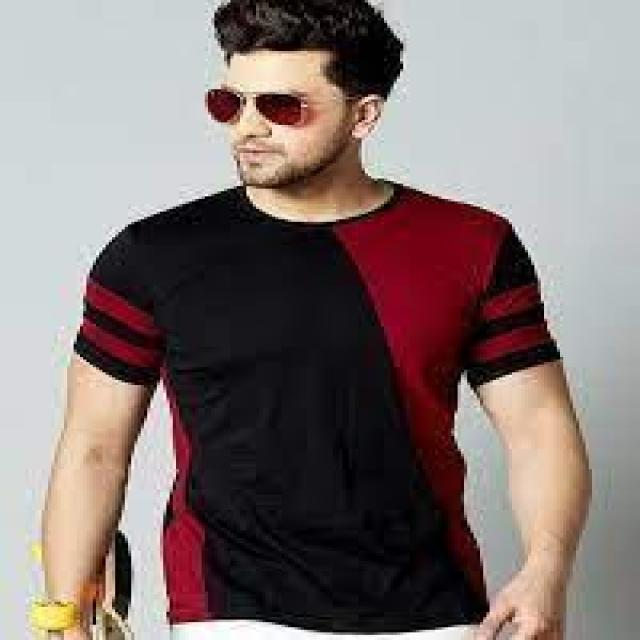Tshirt: (28, 181, 590, 640)
